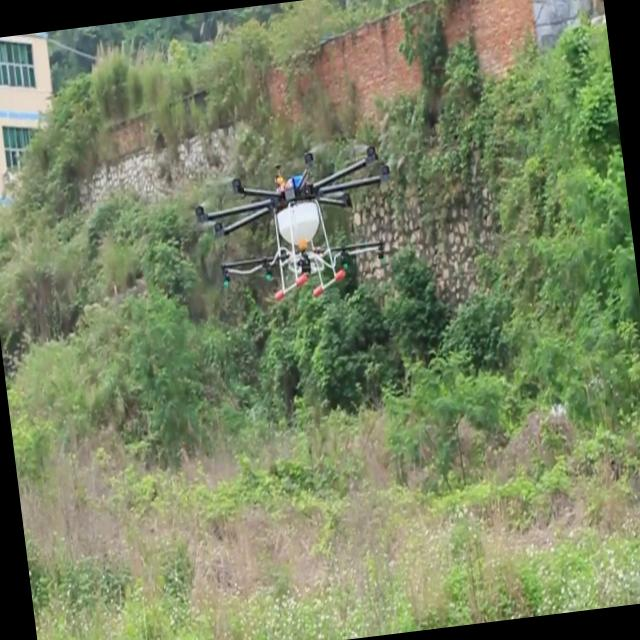drone: (186, 135, 404, 312)
